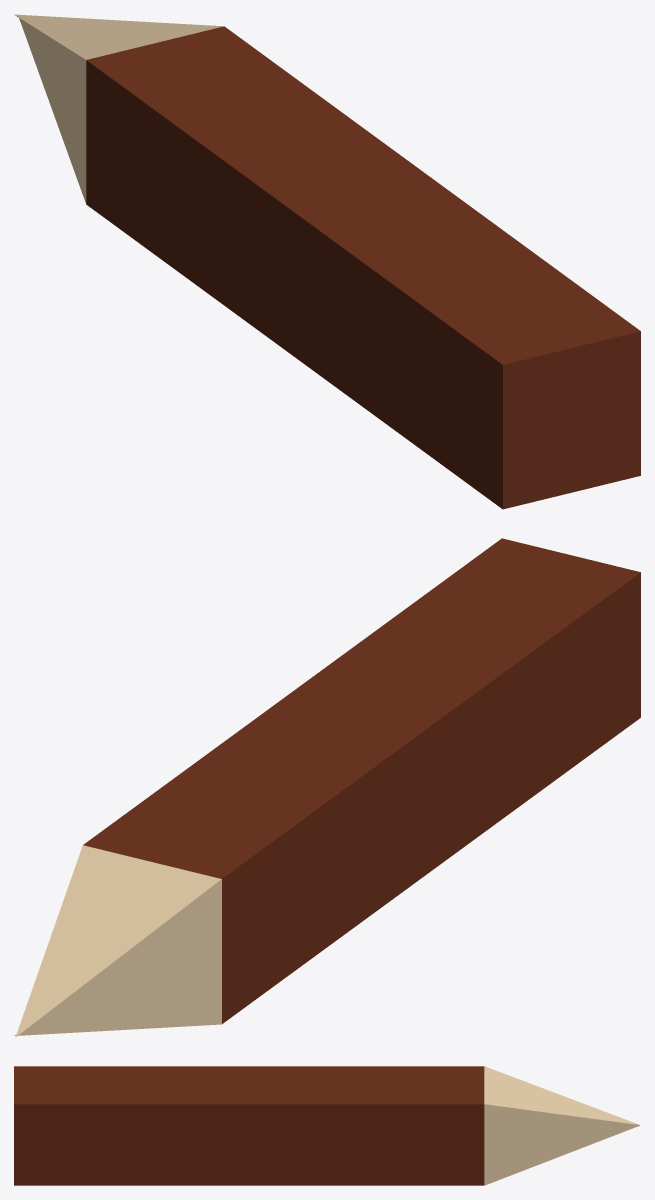
File: stake.fbx
The picture shows the model from 3 angles, top to bottom: view 1: azimuth 30°, elevation 25°; view 2: azimuth 150°, elevation 25°; view 3: azimuth 270°, elevation 25°; orthographic projection. The views are drawn at different scales.
Parts seen in each view (by area): view 1: Cube; view 2: Cube; view 3: Cube.
Boxes of the visible parts, x1,y1,x2,y2 form: Cube: (14,14,640,509); Cube: (14,538,640,1037); Cube: (14,1066,640,1185).
Size of the model in its own units: 200 by 200 by 1393.
